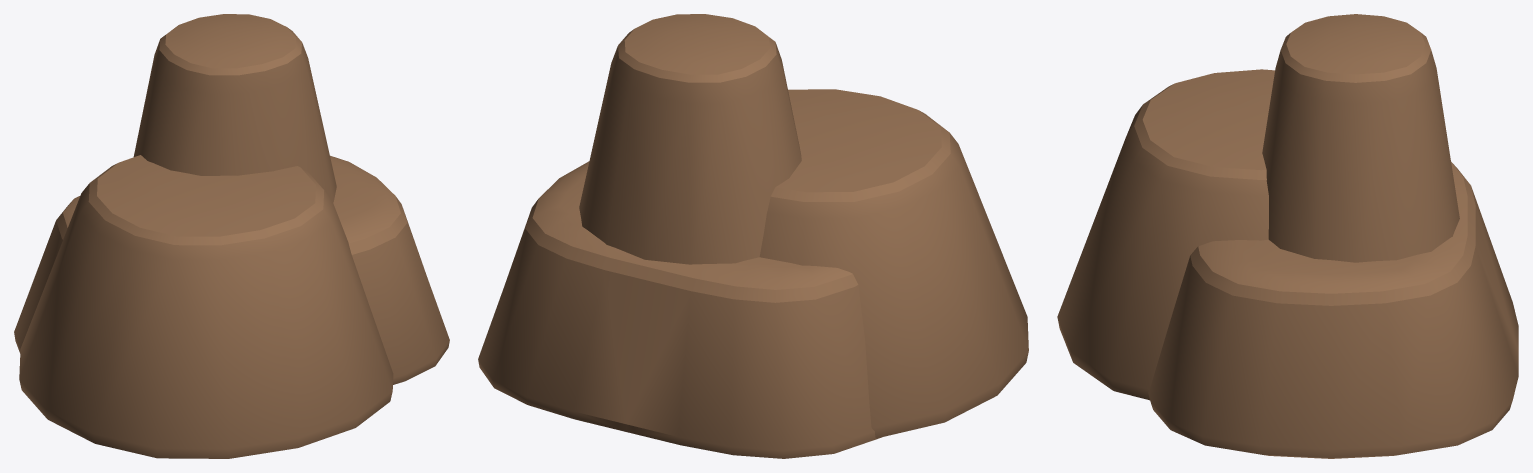
The model's file is quaternius-platformer-game-pack-rock-platforms-3.glb.
3 renders of one model, left to right at view 1: azimuth 30°, elevation 25°; view 2: azimuth 150°, elevation 25°; view 3: azimuth 270°, elevation 25°, orthographic. The views are drawn at different scales.
Parts seen in each view (by area): view 1: RockPlatforms_3; view 2: RockPlatforms_3; view 3: RockPlatforms_3.
Part boxes in pixels (bbox=[...]): RockPlatforms_3: bbox=[14, 14, 449, 458]; RockPlatforms_3: bbox=[478, 14, 1028, 458]; RockPlatforms_3: bbox=[1057, 14, 1518, 458].
Size of the model in its own units: 6 by 4.38 by 5.44.
